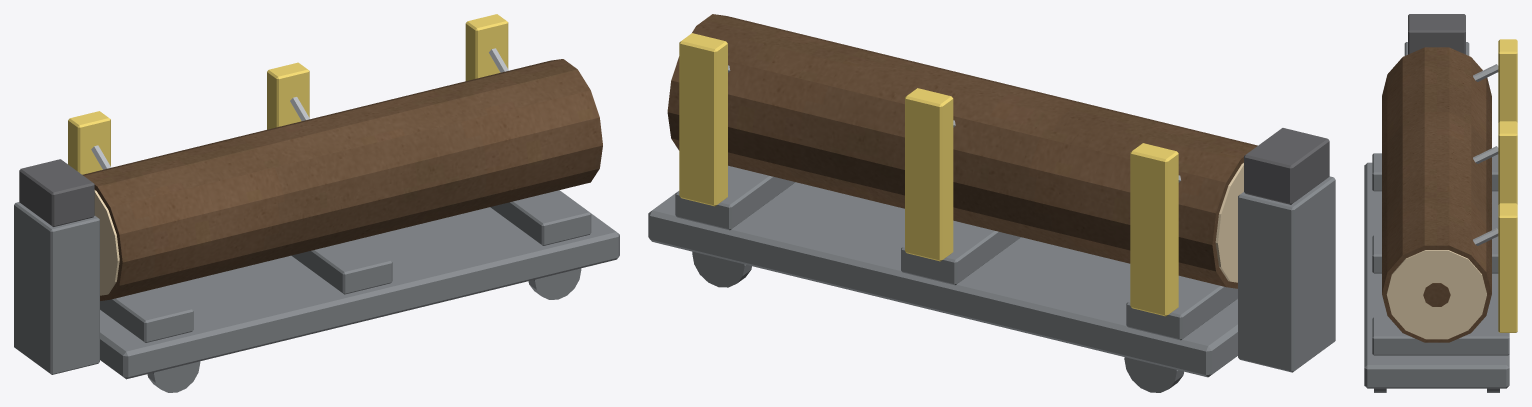
Rendered from carriage.glb.
The picture shows the model from 3 angles, left to right: view 1: azimuth 30°, elevation 25°; view 2: azimuth 150°, elevation 25°; view 3: azimuth 270°, elevation 25°; orthographic projection. The views are drawn at different scales.
Visible parts, largest first — view 1: carriage_bark, carriage_steel_d, carriage_yellow, carriage_dark, carriage_log_end, carriage_steel; view 2: carriage_steel_d, carriage_bark, carriage_yellow, carriage_dark, carriage_log_end; view 3: carriage_bark, carriage_steel_d, carriage_log_end, carriage_yellow, carriage_dark, carriage_steel.
Part boxes in pixels (x1=…): carriage_bark: x1=82, y1=59, x2=602, y2=300; carriage_steel_d: x1=14, y1=190, x2=619, y2=392; carriage_yellow: x1=68, y1=14, x2=508, y2=174; carriage_dark: x1=19, y1=159, x2=94, y2=226; carriage_log_end: x1=94, y1=190, x2=119, y2=295; carriage_steel: x1=91, y1=48, x2=508, y2=169; carriage_steel_d: x1=648, y1=165, x2=1335, y2=392; carriage_bark: x1=667, y1=14, x2=1257, y2=288; carriage_yellow: x1=679, y1=33, x2=1178, y2=316; carriage_dark: x1=1244, y1=128, x2=1329, y2=204; carriage_log_end: x1=1215, y1=163, x2=1243, y2=282; carriage_bark: x1=1382, y1=47, x2=1491, y2=342; carriage_steel_d: x1=1364, y1=42, x2=1509, y2=392; carriage_log_end: x1=1386, y1=250, x2=1486, y2=339; carriage_yellow: x1=1498, y1=39, x2=1517, y2=332; carriage_dark: x1=1408, y1=14, x2=1465, y2=54; carriage_steel: x1=1473, y1=64, x2=1498, y2=245.
Size of the model in its own units: 3.3 by 1.26 by 0.95.
6 materials, 1 textured.
